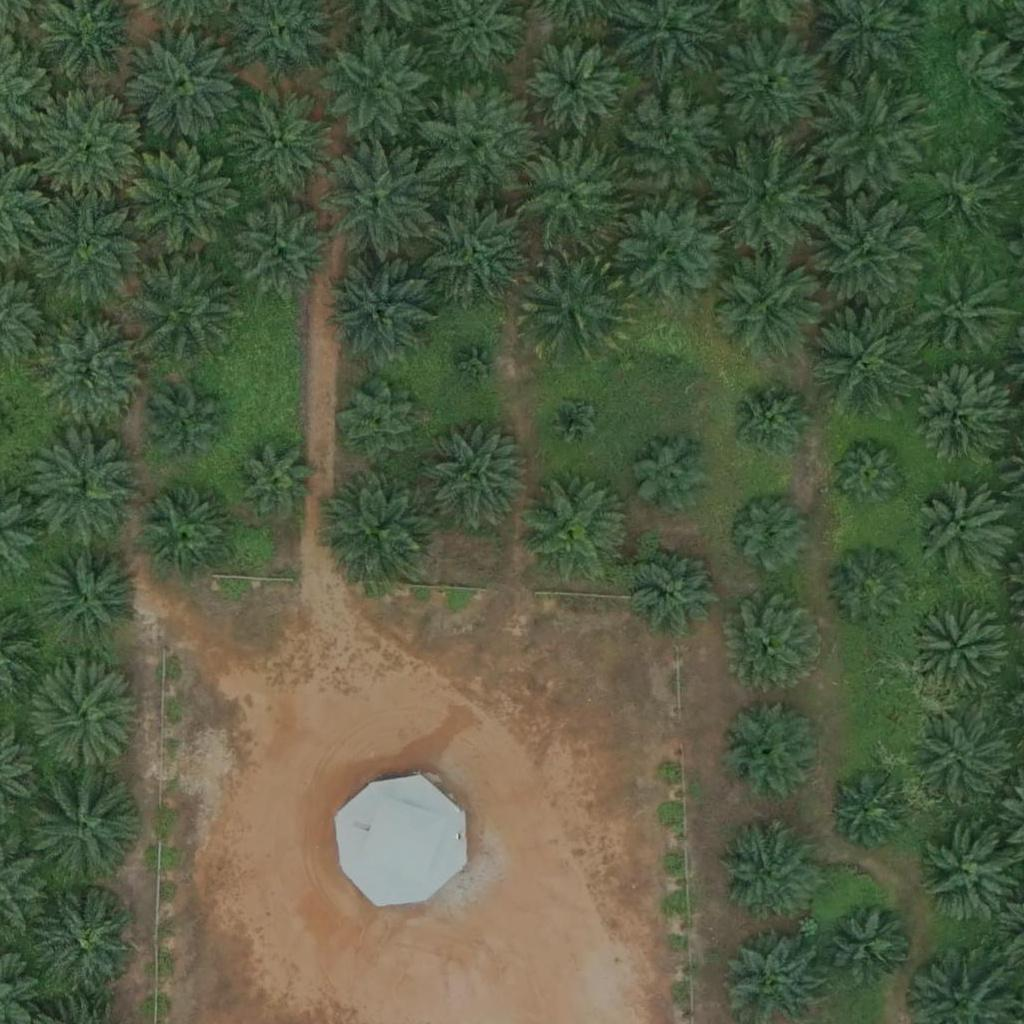Kelapa_Sawit: (808, 297, 921, 411), (711, 28, 824, 142), (708, 138, 821, 252), (33, 311, 146, 425), (713, 248, 826, 361), (615, 88, 728, 201), (323, 32, 436, 145), (323, 145, 436, 258), (326, 260, 439, 373), (221, 81, 334, 194), (37, 92, 150, 205), (31, 187, 144, 300), (27, 435, 140, 548), (31, 539, 144, 652), (31, 662, 144, 775), (26, 774, 139, 887), (326, 473, 439, 586), (812, 78, 924, 192), (814, 195, 926, 309), (518, 473, 630, 587), (517, 249, 629, 362), (620, 195, 732, 308), (515, 139, 627, 252), (415, 85, 527, 198), (419, 192, 531, 305), (127, 29, 239, 142), (132, 141, 244, 254), (131, 248, 243, 361), (419, 423, 531, 536), (524, 36, 624, 137), (233, 201, 333, 302), (716, 820, 816, 921), (908, 369, 1008, 470), (914, 481, 1014, 582), (909, 599, 1009, 700), (912, 145, 1012, 245), (916, 264, 1016, 364), (36, 893, 136, 993), (726, 594, 826, 694), (721, 701, 821, 801), (919, 713, 1019, 813), (921, 826, 1021, 926), (142, 491, 230, 580), (929, 35, 1017, 123), (635, 546, 723, 634), (338, 381, 425, 469), (629, 431, 716, 519), (728, 381, 815, 469), (725, 490, 812, 578), (827, 545, 914, 633), (825, 901, 912, 989), (151, 391, 226, 467), (832, 773, 907, 849), (237, 442, 312, 517), (830, 437, 905, 512), (453, 339, 503, 390), (547, 395, 597, 446), (644, 332, 694, 382)
